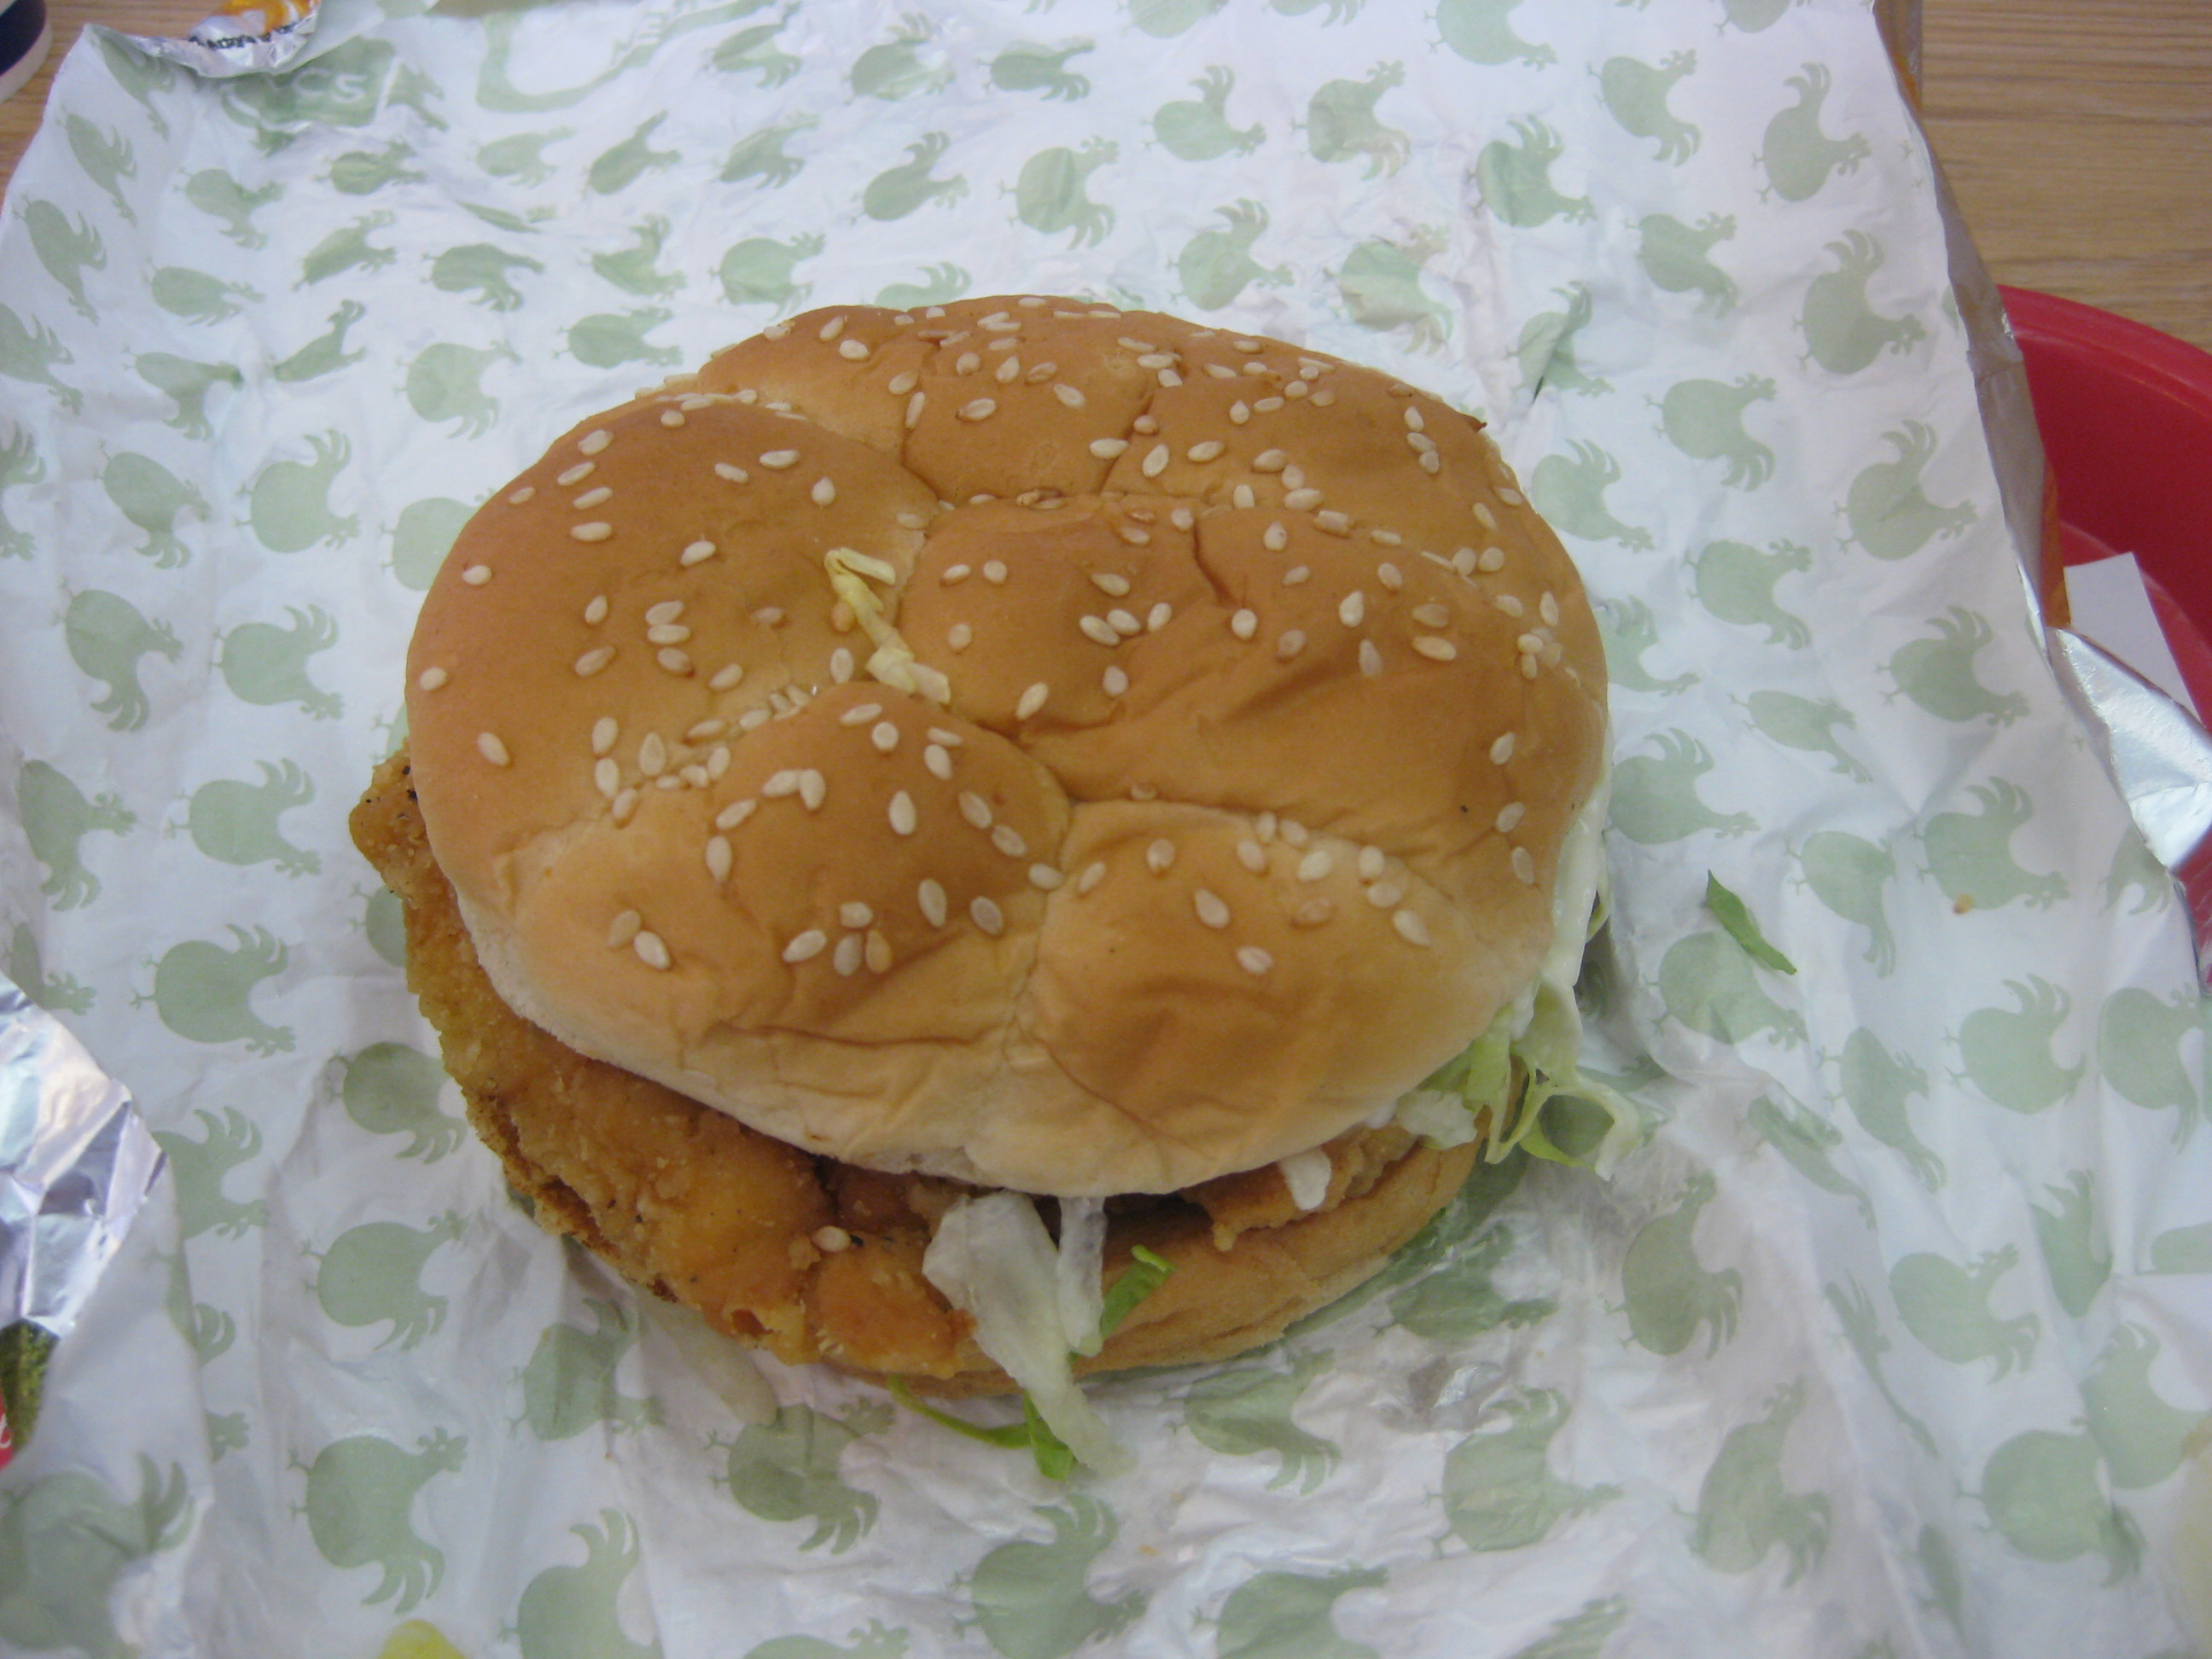burger: (315, 255, 1704, 1441)
